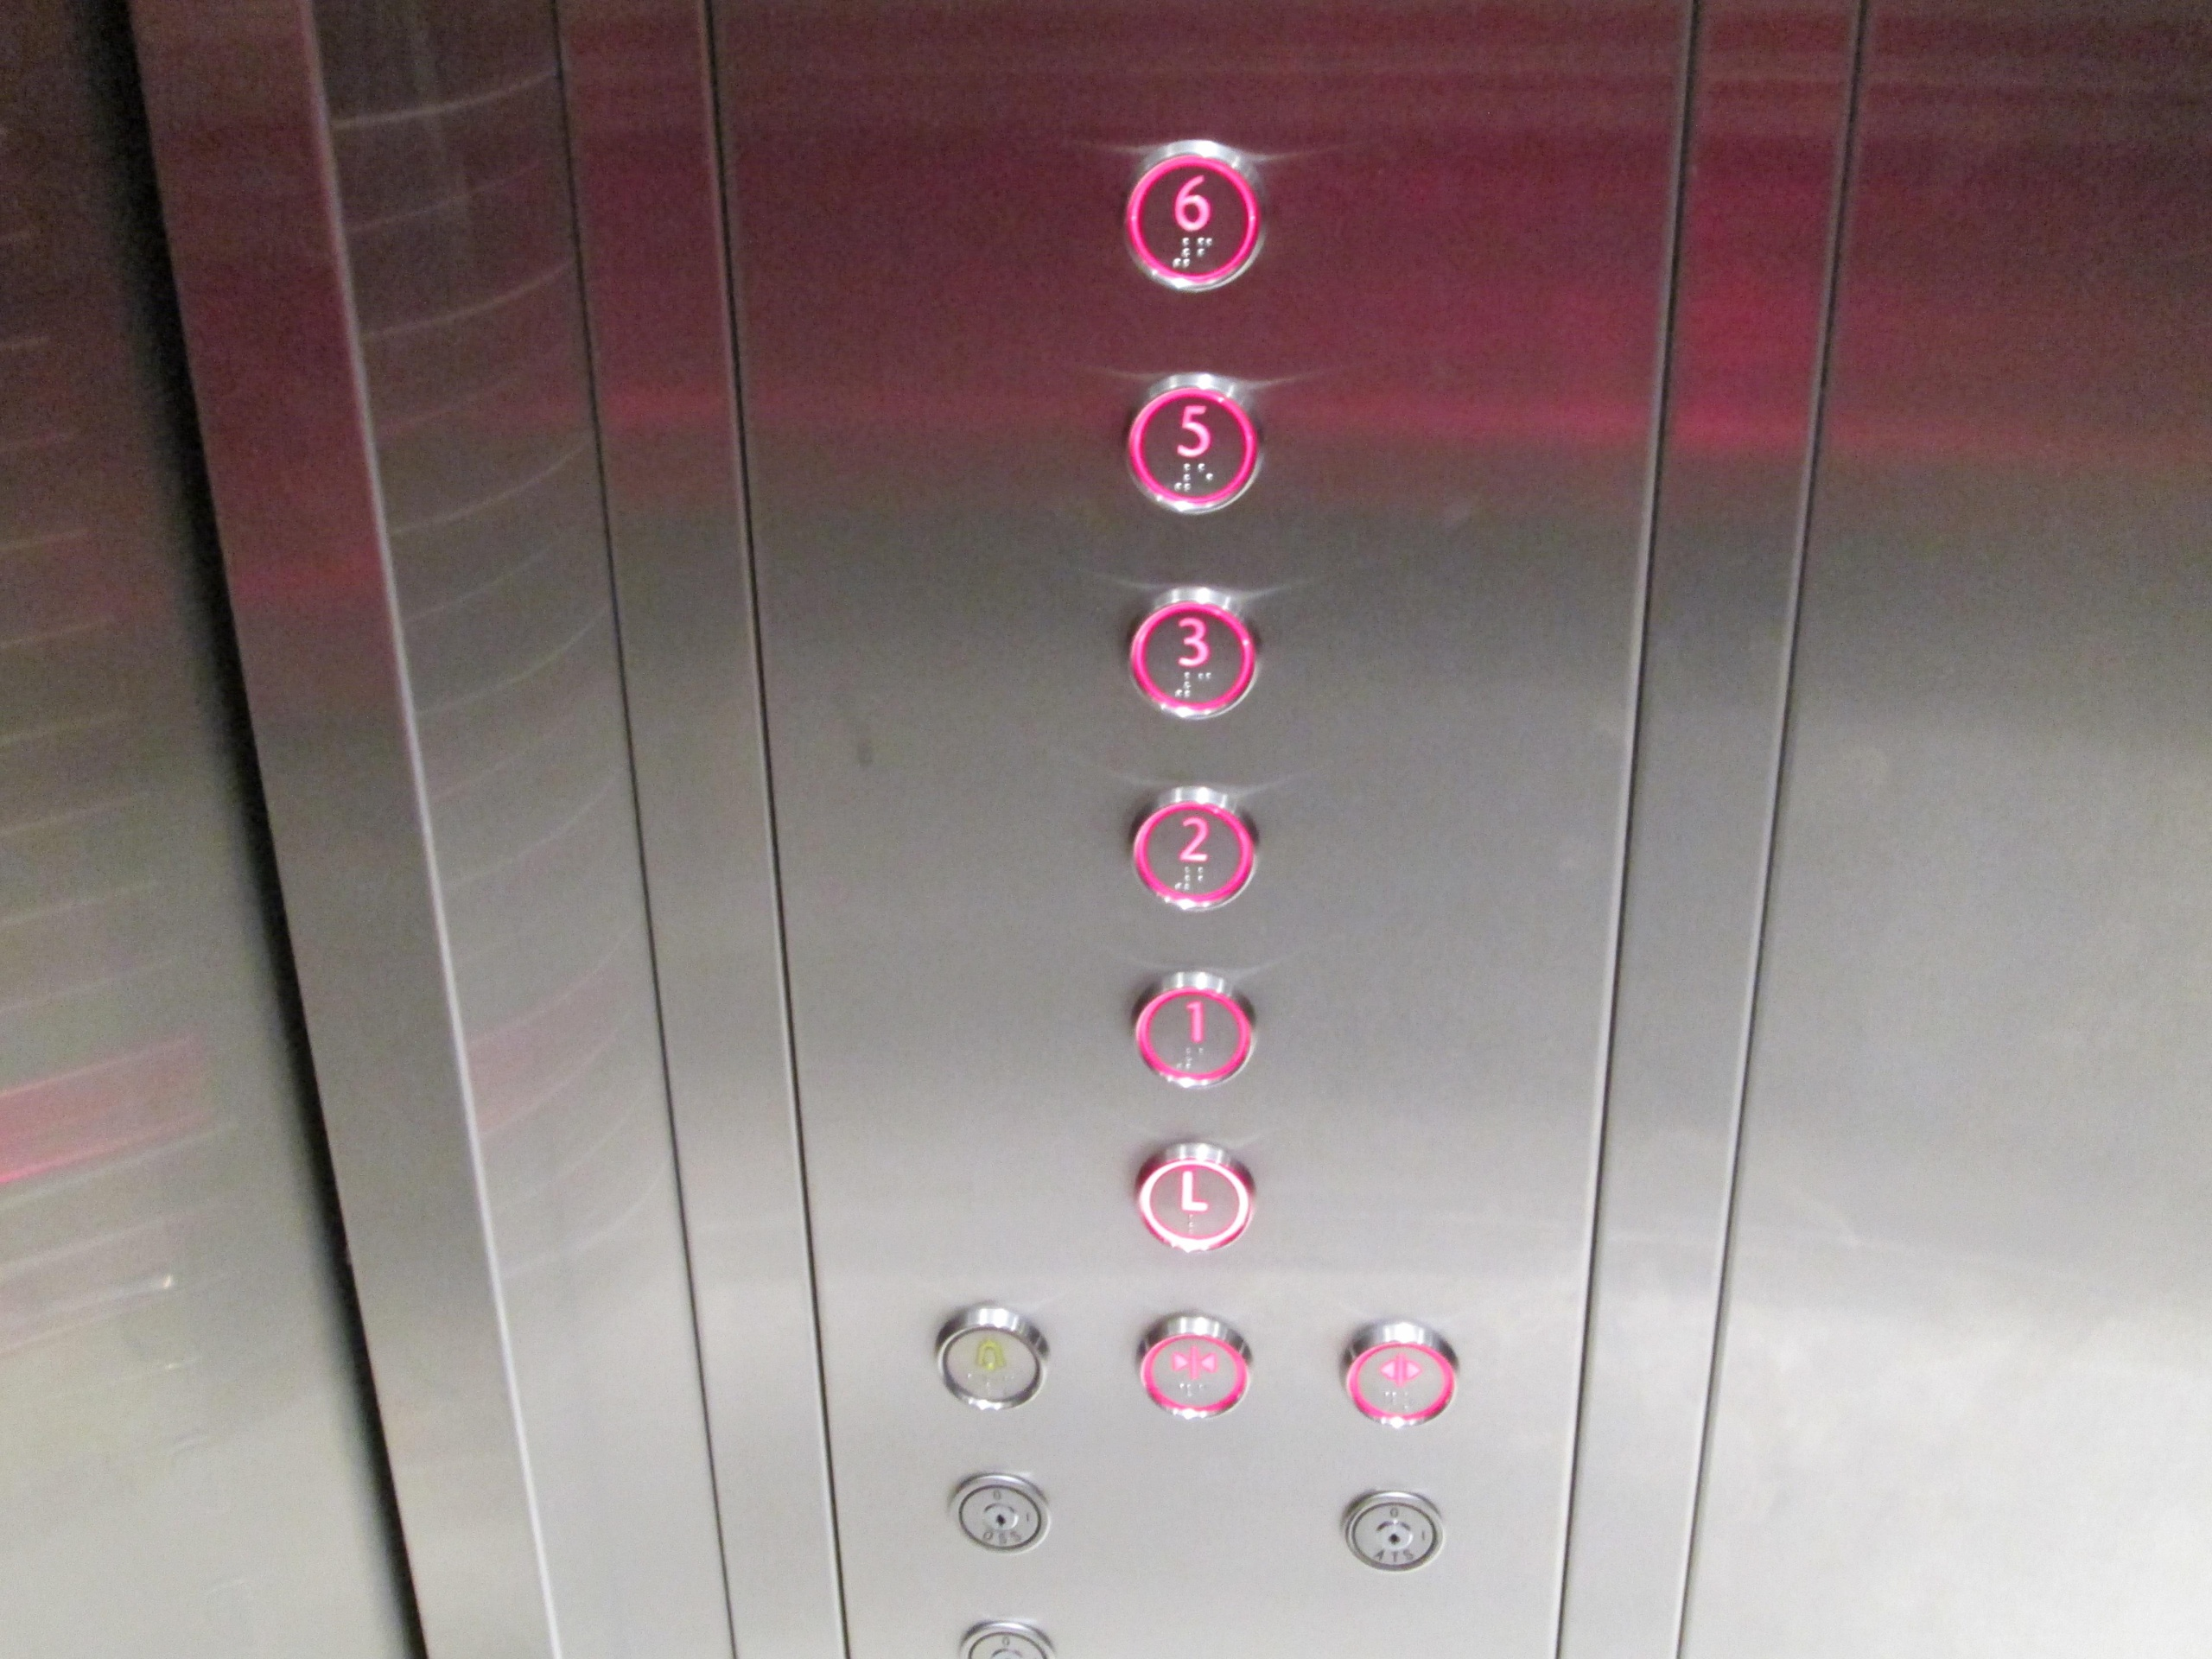1: (1136, 971, 1261, 1089)
2: (1125, 788, 1261, 913)
3: (1127, 589, 1261, 725)
5: (1120, 371, 1273, 518)
6: (1115, 138, 1273, 293)
L: (1139, 1143, 1254, 1253)
alarm: (927, 1307, 1050, 1415)
close: (1139, 1312, 1251, 1427)
keyhole: (1338, 1485, 1449, 1568), (944, 1473, 1057, 1554)
open: (1343, 1326, 1465, 1436)
